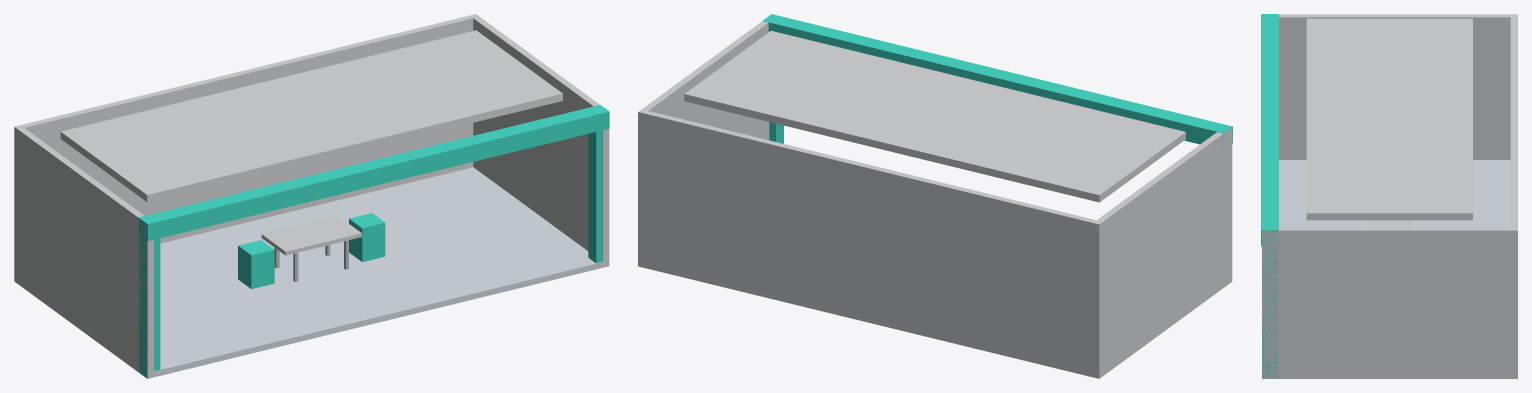
3 renders of one model, left to right at view 1: azimuth 30°, elevation 25°; view 2: azimuth 150°, elevation 25°; view 3: azimuth 270°, elevation 25°, orthographic. The views are drawn at different scales.
Parts seen in each view (by area): view 1: Exhibition Booth Concept; view 2: Exhibition Booth Concept; view 3: Exhibition Booth Concept.
Part boxes in pixels (x1,y1,x2,y2): Exhibition Booth Concept: [14, 14, 609, 378]; Exhibition Booth Concept: [638, 14, 1232, 378]; Exhibition Booth Concept: [1261, 14, 1517, 378].
Size of the model in its own units: 10 by 3.34 by 5.02.
